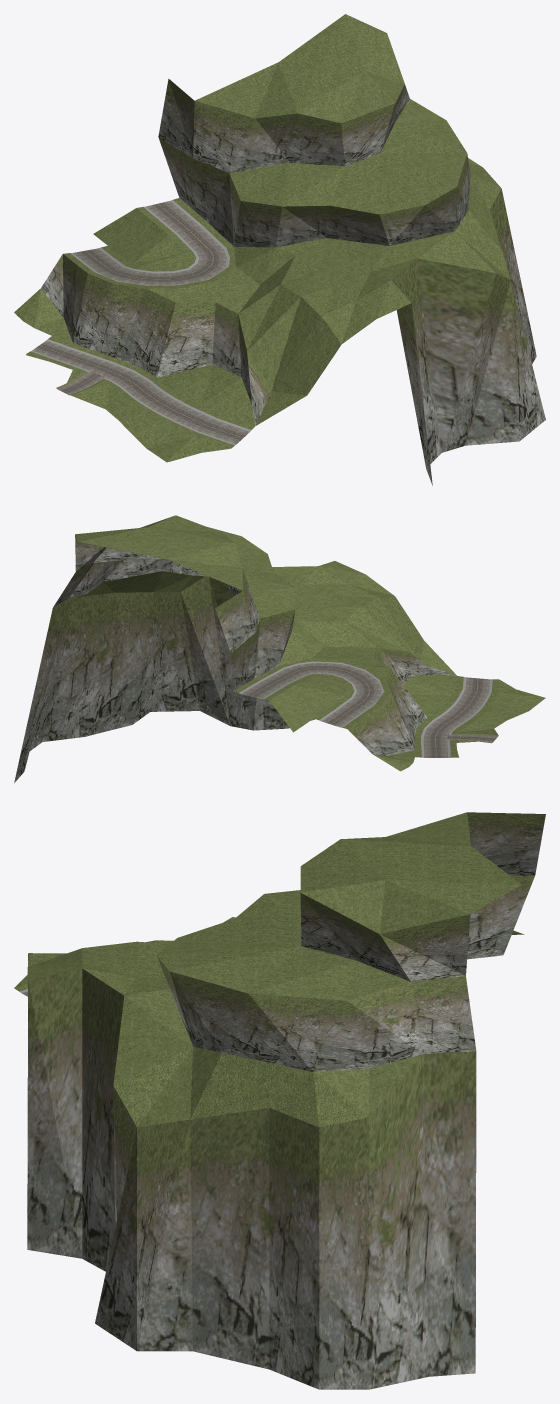
The model's file is cen_bit_14.obj.
3 renders of one model, top to bottom at view 1: azimuth 30°, elevation 25°; view 2: azimuth 150°, elevation 25°; view 3: azimuth 270°, elevation 25°, orthographic. The views are drawn at different scales.
Visible parts, largest first — view 1: cen_bit_14; view 2: cen_bit_14; view 3: cen_bit_14.
Part boxes in pixels (x1,y1,x2,y2): cen_bit_14: (14, 14, 545, 485); cen_bit_14: (14, 515, 545, 783); cen_bit_14: (14, 812, 545, 1389).
Bounding box in the file's own units: 253 × 152 × 171.
7 materials, 7 textured.
